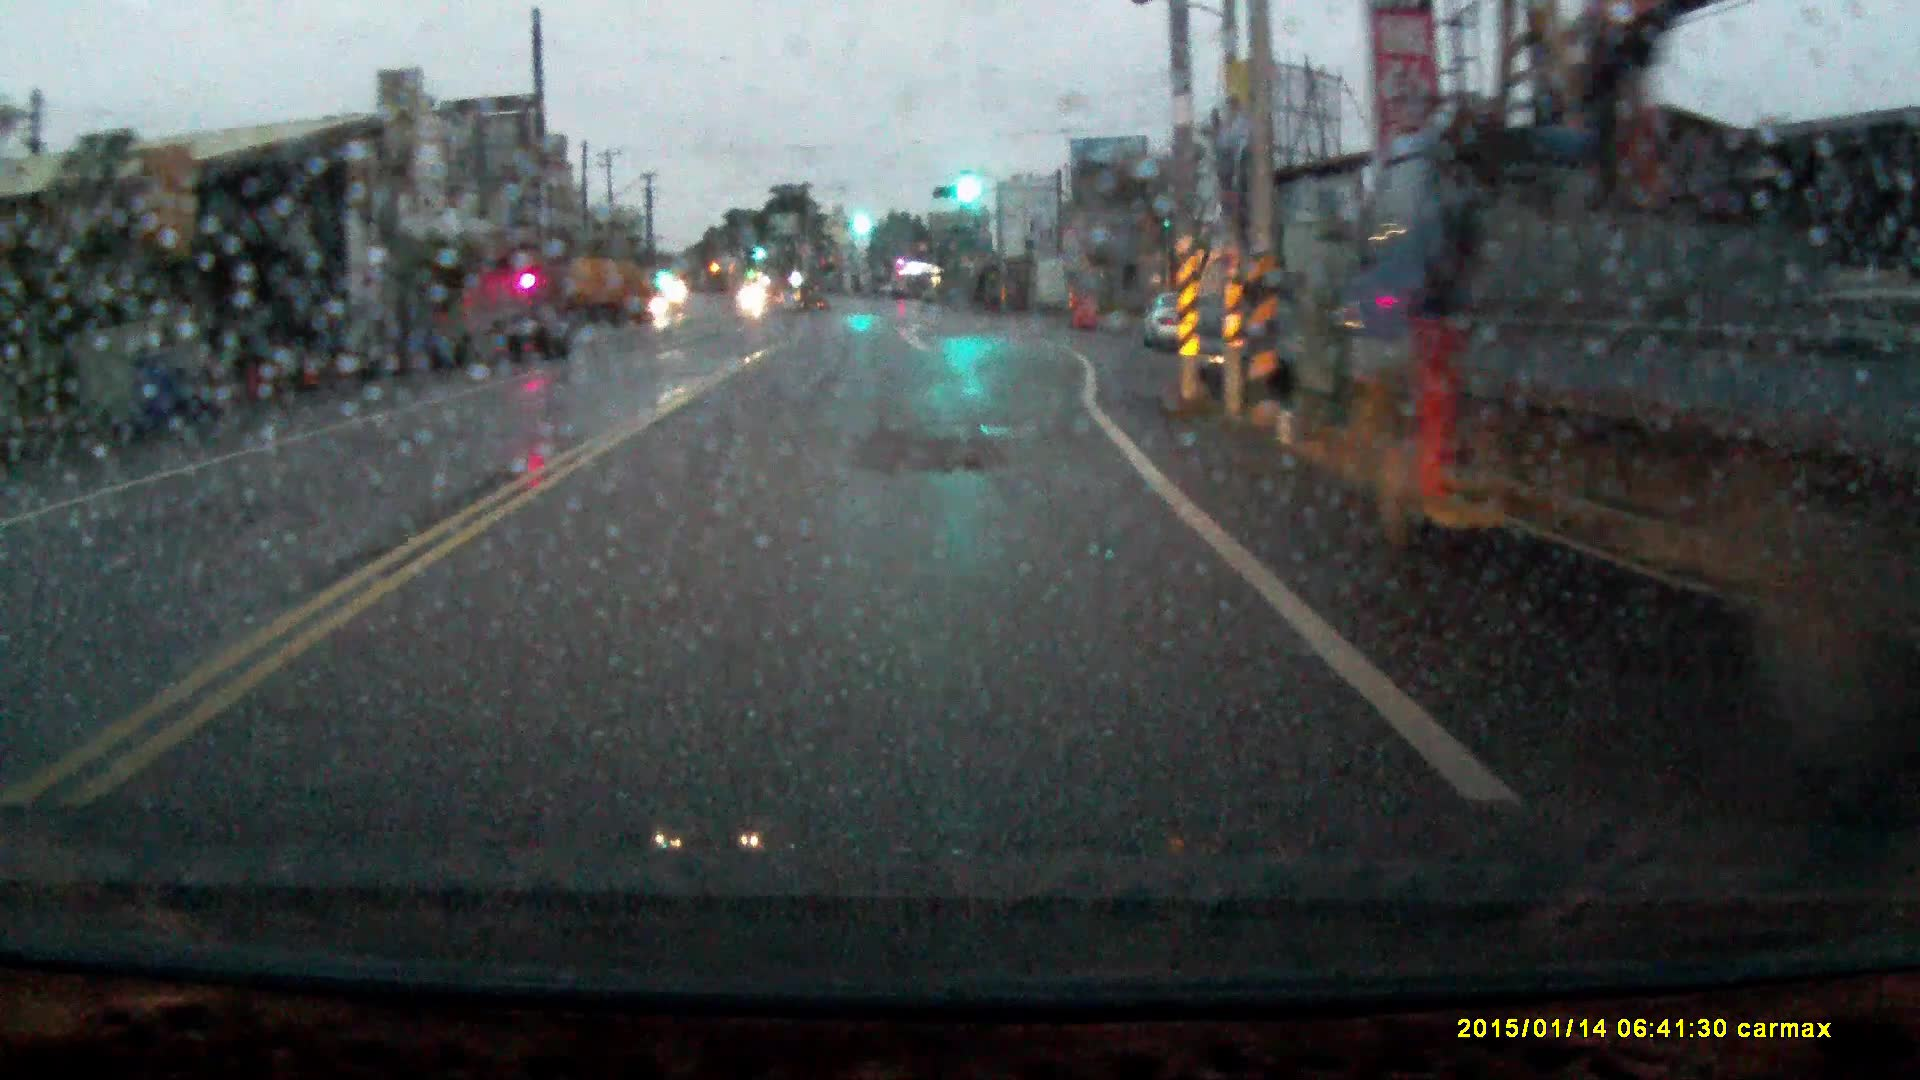vehicle: (1360, 113, 1920, 684), (537, 258, 653, 327), (484, 303, 583, 367)
